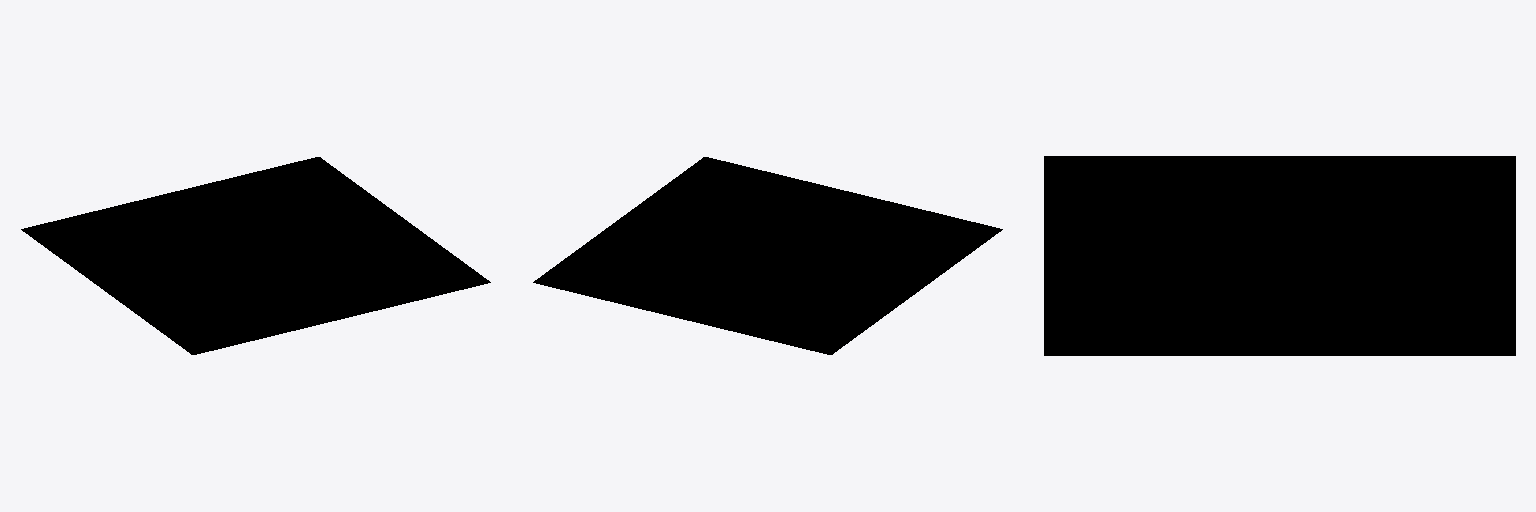
URDF robot description (world):
<robot name="world">
 
	<link name="plane">

   		<inertial>
		    <origin rpy="0 0 0" xyz="0 0 0" />
            <mass value="0.0" />
            <inertia ixx="0.0" ixy="0.0" ixz="0.0" iyy="0.0" iyz="0.0" izz="0.0" />
        </inertial>

    	<visual>
      		<geometry>
        		<box size="10.0 10.0 0.001" />
      		</geometry>

			<material name="plane_color">
        		<color rgba="0 0 0 1" />
      		</material>
       	
			<origin rpy="0 0 0" xyz="0 0 0" />
		</visual>

		<contact>
		 	<lateral_friction value="1" />
			<stiffness value="300000" />
          	<damping value="1000" />
  		</contact>

  		<collision>
			<geometry>
        		<box size="10.0 10.0 0.01" />
      		</geometry>
          <origin rpy="0 0 0" xyz="0 0 0" />
        </collision>
  
	</link>


	<link name="line">

   		<inertial>
		    <origin rpy="0 0 0" xyz="0 0 0" />
            <mass value="0.0" />
            <inertia ixx="0.0" ixy="0.0" ixz="0.0" iyy="0.0" iyz="0.0" izz="0.0" />
        </inertial>

    	<visual>
      		<geometry>
				<mesh filename="[local-path]/Future_of_iot/line_follower_rl/ai_gym_train/gym_linefollower/models_tracks/19.obj" scale="1 1 1" />
      		</geometry>
       		
			<material name="line_color">
        		<color rgba="1 1 1 1" />
      		</material>
	    
			<origin rpy="0 0 0" xyz="0 0 0.001" />
		</visual>
    
	</link>


  	<joint name="plane_line" type="fixed">
		<parent link="plane" />
		<child link="line" />
        <origin rpy="0 0 0" xyz="0.0 0.0 0.0" />
 	</joint>

</robot>

--- Render facts (derived) ---
3 views of the same robot in one strip: view 1: azimuth 30°, elevation 25°; view 2: azimuth 150°, elevation 25°; view 3: azimuth 270°, elevation 25° (orthographic).
Model world with 2 links and 1 joints (1 fixed), rooted at plane, posed every joint at zero.
Links seen in each view (by area): view 1: plane; view 2: plane; view 3: plane.
Link boxes in pixels (x1,y1,x2,y2): plane: (21, 157, 490, 354); plane: (533, 157, 1002, 354); plane: (1044, 156, 1515, 355).
Size in the robot's own frame: 10 by 10 by 0.001 metres.
Geometry: only primitive shapes (box / cylinder / sphere) drawn; not drawn: 1 mesh visual (reference in a form the renderer does not follow).
